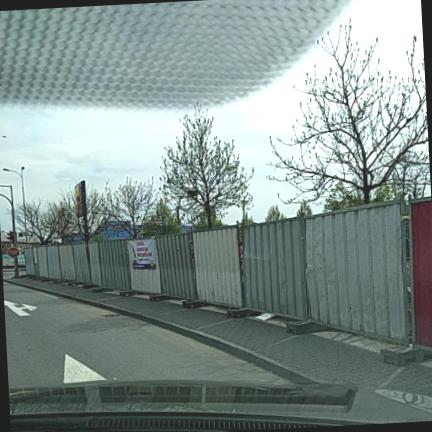Road: (3, 283, 288, 387)
